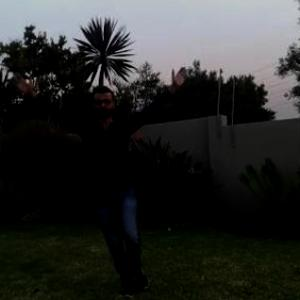takeoff: (12, 65, 188, 299)
